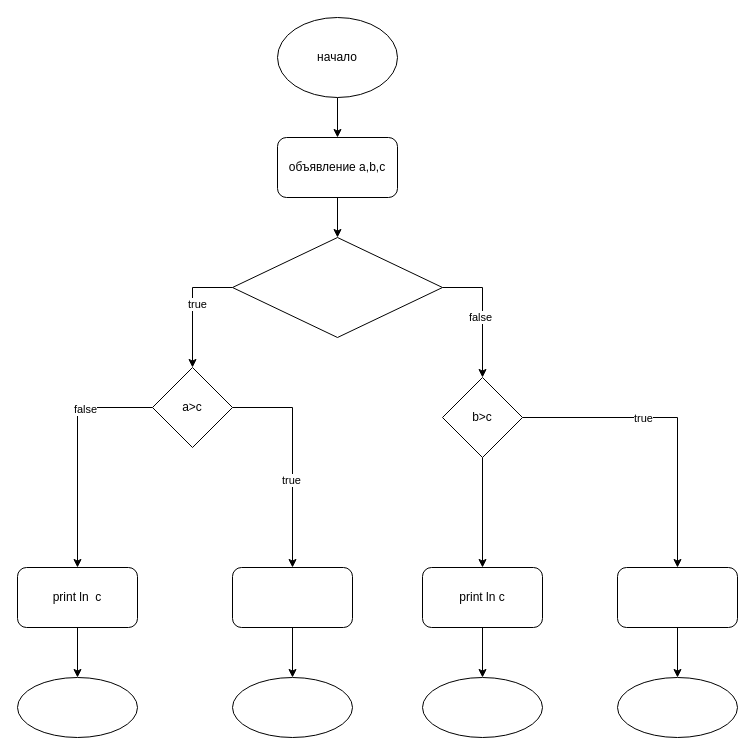
The diagram is 755 pixels wide and 755 high, and some of its shapes have lost their labels. The centre of each missing label's shape, as x and y in pixels:
"a> b" goes at (x=337, y=287).
"print ln a" goes at (x=292, y=597).
"print ln b" goes at (x=677, y=597).
